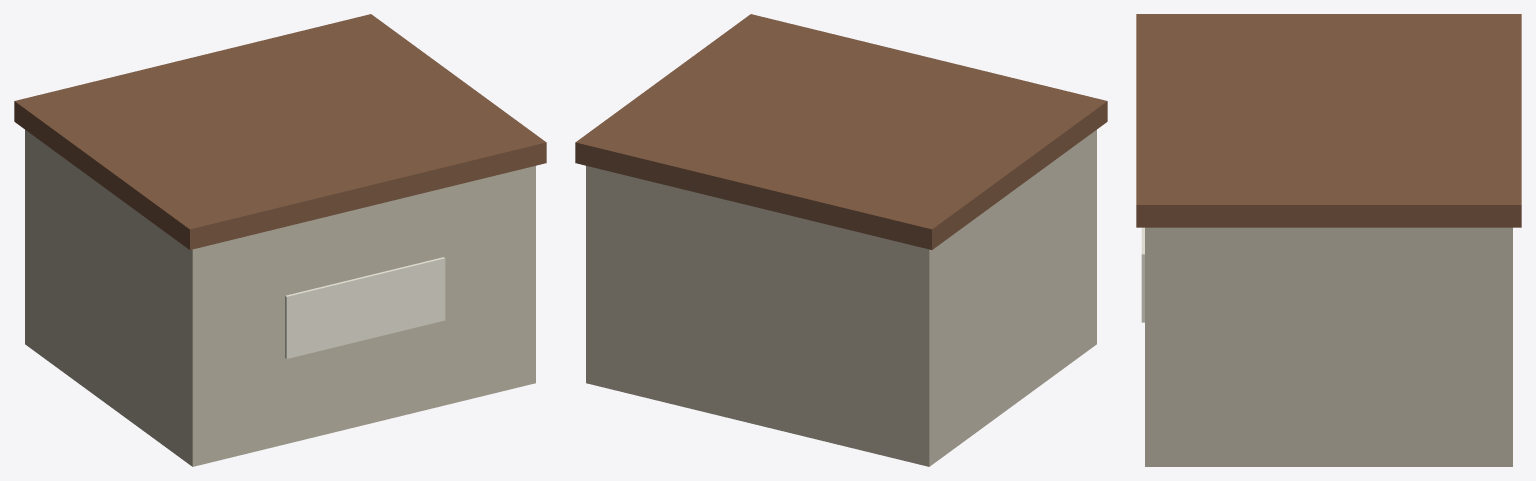
Rendered from storage-box.glb.
3 renders of one model, left to right at view 1: azimuth 30°, elevation 25°; view 2: azimuth 150°, elevation 25°; view 3: azimuth 270°, elevation 25°, orthographic. The views are drawn at different scales.
Visible parts, largest first — view 1: storage-box; view 2: storage-box; view 3: storage-box.
Part boxes in pixels (box(x1,y1,x2,y2)): storage-box: box(14, 14, 546, 466); storage-box: box(575, 14, 1107, 466); storage-box: box(1136, 14, 1521, 466).
Size of the model in its own units: 0.27 by 0.175 by 0.23.
